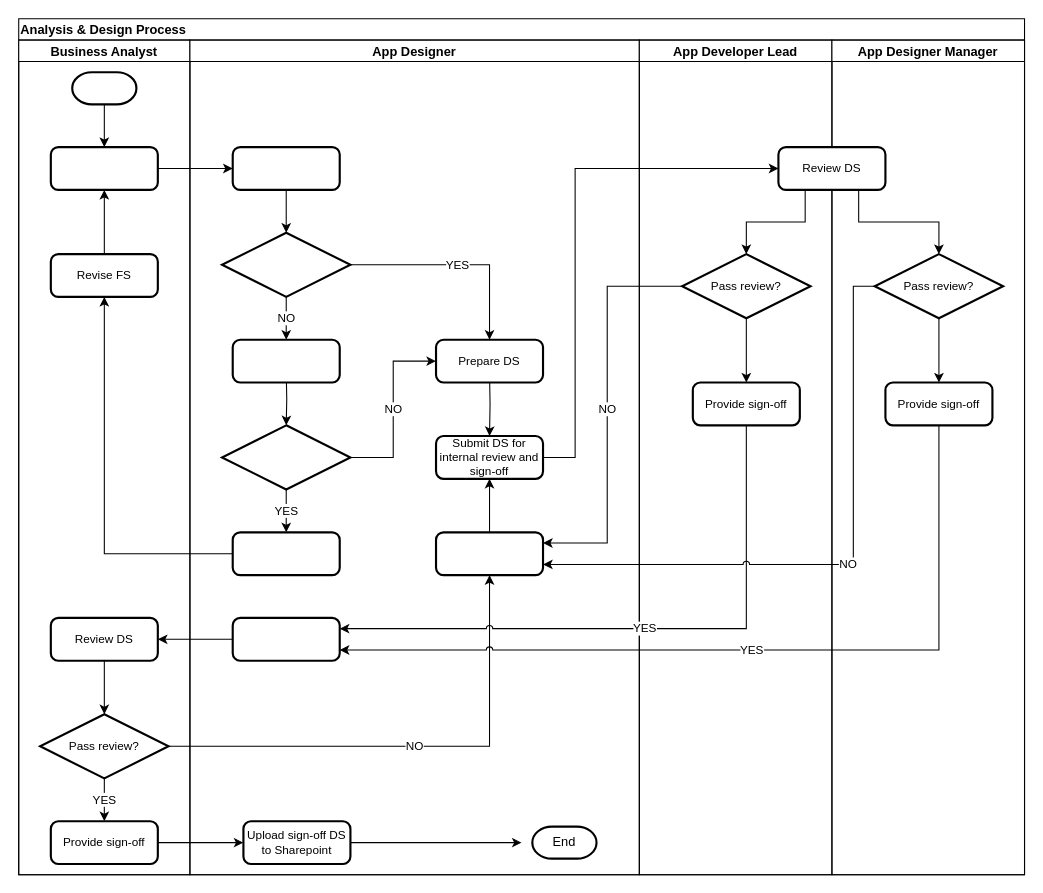
Some shapes in this 1043 by 893 pixel diagram are drawn without their labels. Here are the shapes that lost their labels. From the top down, the centre of each, then its label:
At (x=104, y=88): "Start".
At (x=103, y=168): "Provide FS".
At (x=285, y=168): "Analyse requirements".
At (x=285, y=264): "Clear requirements?".
At (x=285, y=360): "Request for clarification".
At (x=285, y=457): "Require FS updates?".
At (x=285, y=553): "Request for revised FS".
At (x=489, y=553): "Revise DS".
At (x=285, y=638): "Submit DS for BA review and sign-off".
